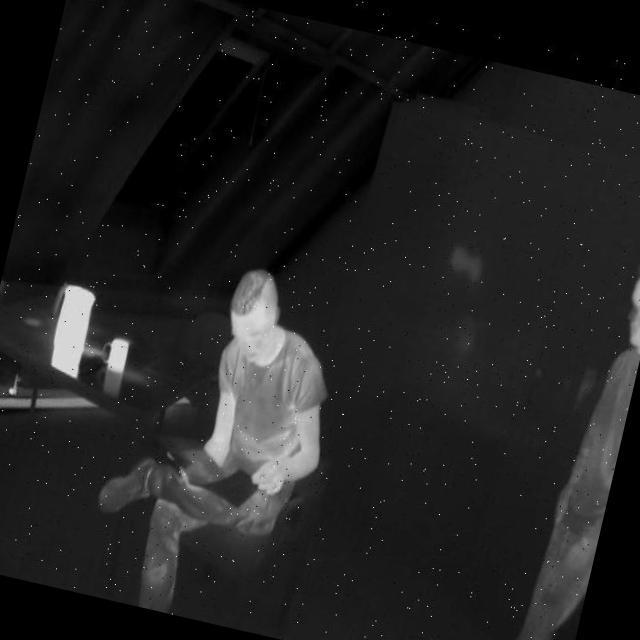person: (70, 234, 362, 639), (501, 227, 640, 640)
